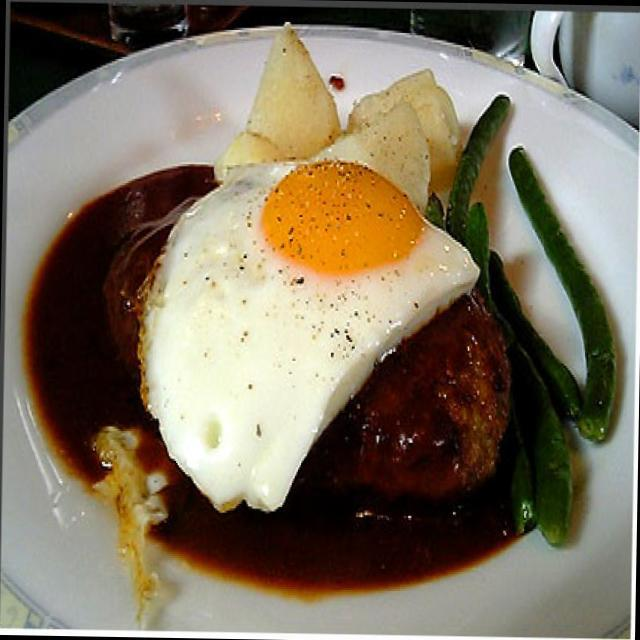Egg: (157, 145, 467, 510)
